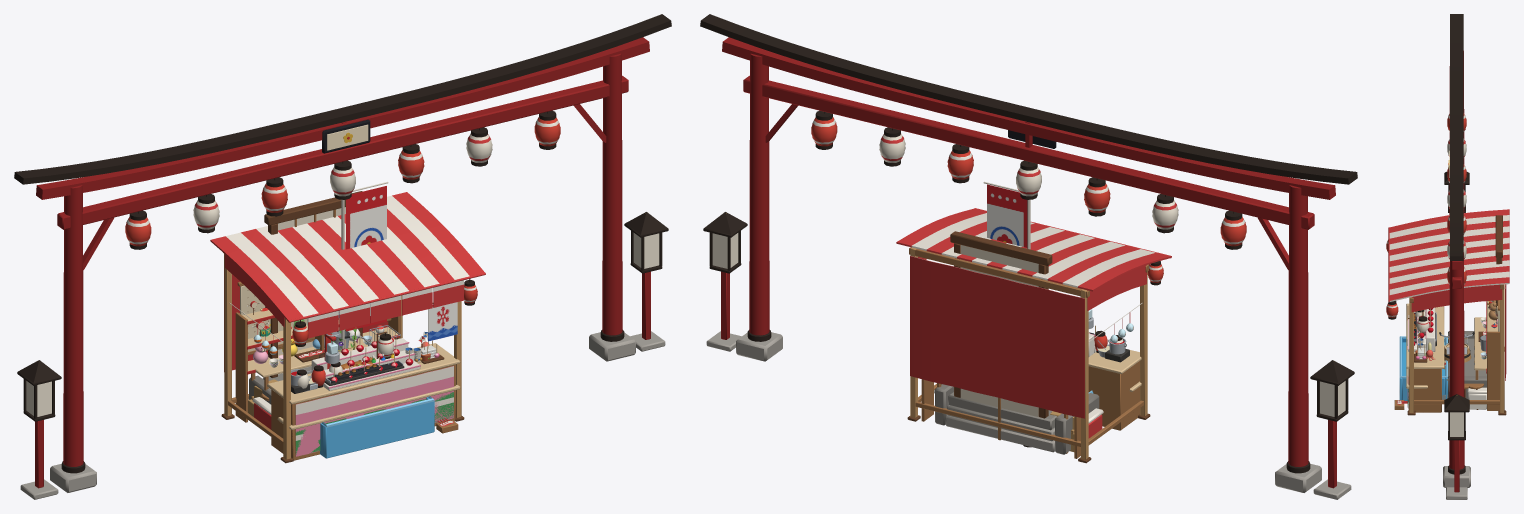
Rendered from stalls.glb.
The picture shows the model from 3 angles, left to right: view 1: azimuth 30°, elevation 25°; view 2: azimuth 150°, elevation 25°; view 3: azimuth 270°, elevation 25°; orthographic projection. The views are drawn at different scales.
Parts seen in each view (by area): view 1: gate_frame, stall_goldfish_body, stall_candyapple_body, gate, stall_ringtoss_body, wind_goldfish_valance, steps_mesh, wind_nobori_cloth, stall_masks_body, stall_food_a_body, stall_lantern_body, wind_flag_ice (+8 smaller); view 2: gate_frame, stall_goldfish_body, steps_mesh, gate, stall_candyapple_body, wind_nobori_cloth, stall_ringtoss_body, stall_shavedice_body, gatelantern_6, gatelantern_0, gatelantern_4, gatelantern_2 (+3 smaller); view 3: stall_goldfish_body, gate_frame, stall_candyapple_body, stall_ringtoss_body, gate, steps_mesh, stall_shavedice_body, stall_food_a_body, stall_masks_body, lantern_goldfish_1, water_tub, lantern_light (+3 smaller).
Boxes of the visible parts, x1=… form: gate_frame: x1=14, y1=14, x2=671, y2=492; stall_goldfish_body: x1=210, y1=192, x2=485, y2=463; stall_candyapple_body: x1=267, y1=338, x2=459, y2=456; gate: x1=17, y1=212, x2=668, y2=499; stall_ringtoss_body: x1=235, y1=301, x2=460, y2=460; wind_goldfish_valance: x1=308, y1=280, x2=463, y2=338; steps_mesh: x1=249, y1=191, x2=362, y2=404; wind_nobori_cloth: x1=346, y1=186, x2=386, y2=331; stall_masks_body: x1=237, y1=281, x2=460, y2=459; stall_food_a_body: x1=248, y1=345, x2=458, y2=457; stall_lantern_body: x1=251, y1=331, x2=452, y2=453; wind_flag_ice: x1=428, y1=302, x2=457, y2=341; gate_frame: x1=700, y1=14, x2=1357, y2=492; stall_goldfish_body: x1=896, y1=208, x2=1171, y2=463; steps_mesh: x1=935, y1=231, x2=1099, y2=454; gate: x1=703, y1=212, x2=1354, y2=499; stall_candyapple_body: x1=1088, y1=333, x2=1141, y2=430; wind_nobori_cloth: x1=987, y1=184, x2=1027, y2=247; stall_ringtoss_body: x1=921, y1=379, x2=1141, y2=458; stall_shavedice_body: x1=934, y1=296, x2=1141, y2=426; gatelantern_6: x1=811, y1=110, x2=837, y2=149; gatelantern_0: x1=1220, y1=210, x2=1246, y2=249; gatelantern_4: x1=947, y1=144, x2=973, y2=183; gatelantern_2: x1=1084, y1=177, x2=1110, y2=216; stall_goldfish_body: x1=1388, y1=209, x2=1509, y2=415; gate_frame: x1=1443, y1=14, x2=1470, y2=487; stall_candyapple_body: x1=1406, y1=303, x2=1444, y2=412; stall_ringtoss_body: x1=1406, y1=300, x2=1499, y2=412; gate: x1=1444, y1=171, x2=1469, y2=499; steps_mesh: x1=1442, y1=215, x2=1502, y2=399; stall_shavedice_body: x1=1407, y1=305, x2=1486, y2=412; stall_food_a_body: x1=1407, y1=307, x2=1440, y2=412; stall_masks_body: x1=1406, y1=300, x2=1499, y2=411; lantern_goldfish_1: x1=1386, y1=301, x2=1398, y2=319; water_tub: x1=1402, y1=342, x2=1444, y2=375; lantern_light: x1=1416, y1=316, x2=1429, y2=335.
Bounding box in the file's own units: 9.51 × 4.88 × 2.04.
Materials: 29 (3 with a texture image).
